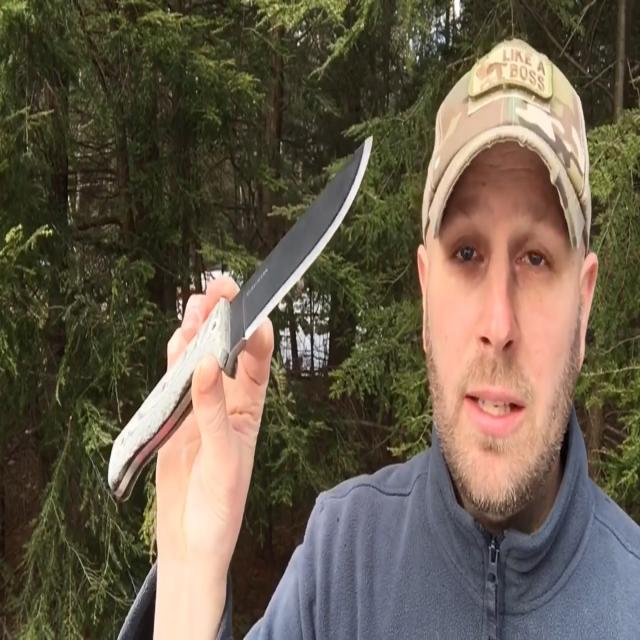knife: (108, 133, 376, 507)
